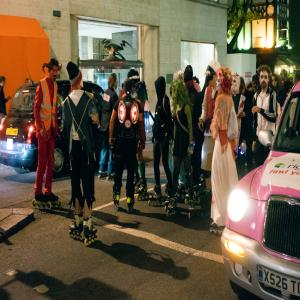Vehicle-registration-plate: (258, 266, 300, 297), (6, 129, 20, 137)
